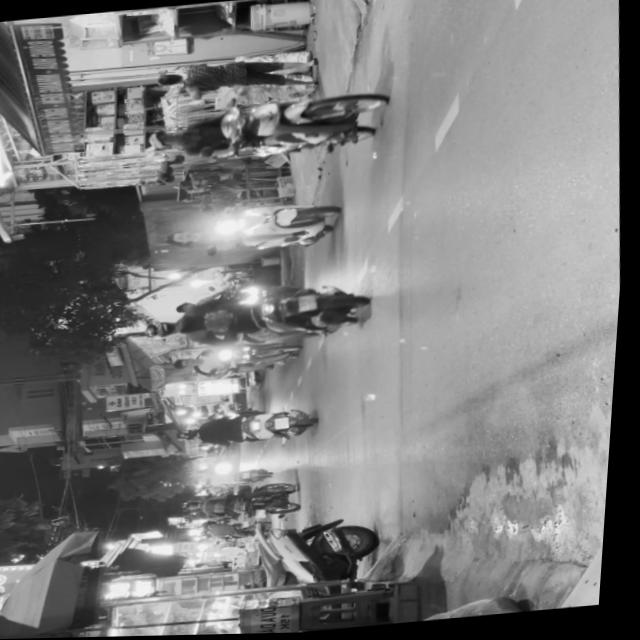helmet: (145, 127, 186, 151), (146, 318, 181, 339), (167, 230, 195, 246)
licenseplate: (141, 86, 393, 171), (141, 278, 376, 356), (159, 199, 345, 262)
nohelmet: (299, 295, 319, 312)
